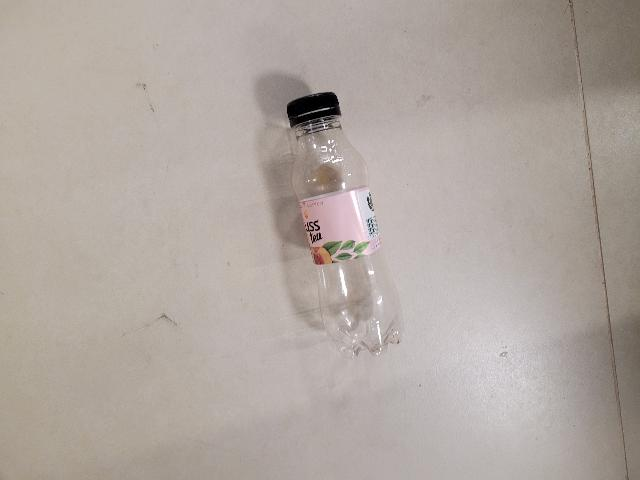Plastik: (284, 87, 406, 362)
